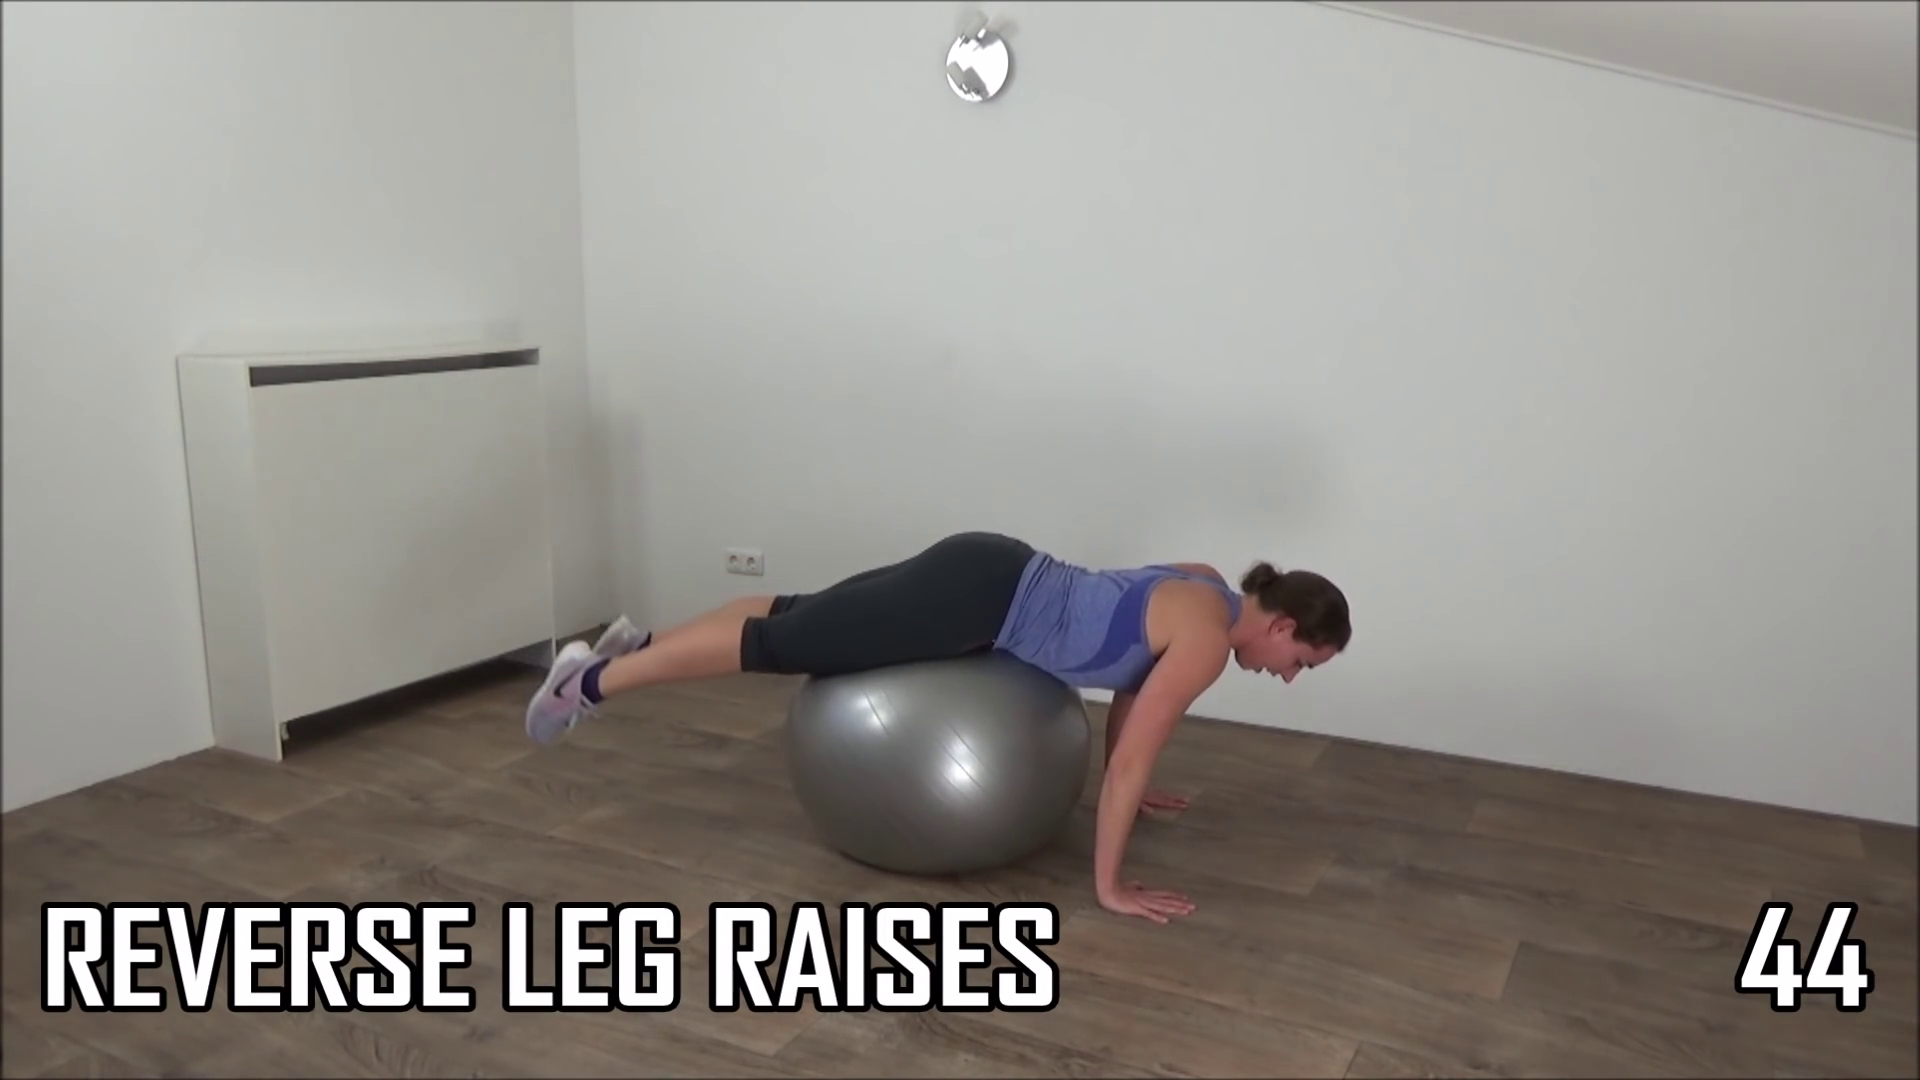yogaball: (762, 649, 1114, 887)
